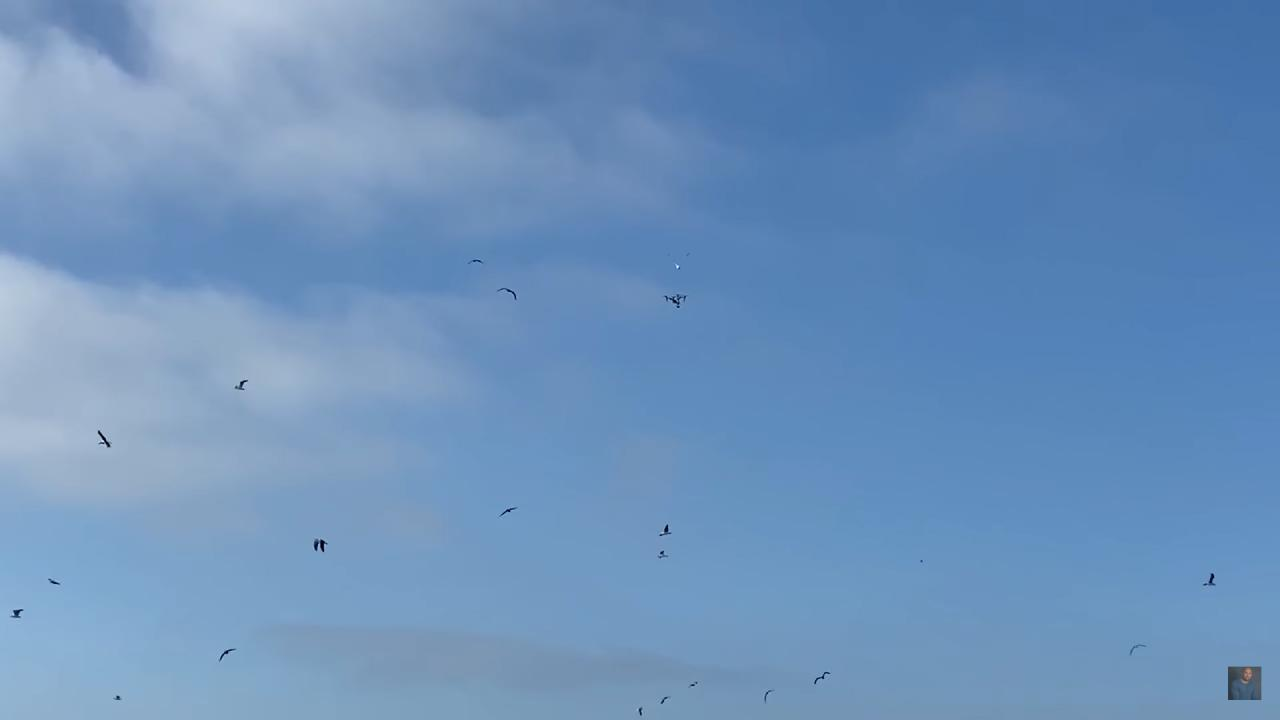Bird: (87, 422, 122, 457), (492, 280, 529, 308), (35, 570, 72, 597), (4, 598, 32, 628), (227, 370, 255, 398), (305, 534, 333, 560), (495, 500, 522, 525), (756, 682, 780, 710), (808, 666, 838, 688), (1124, 639, 1151, 663), (461, 252, 491, 273), (212, 643, 238, 667), (1198, 568, 1223, 591), (652, 519, 675, 541), (631, 701, 651, 720), (655, 688, 672, 709), (686, 675, 703, 695), (655, 546, 674, 562)
Drone: (659, 287, 694, 315)
